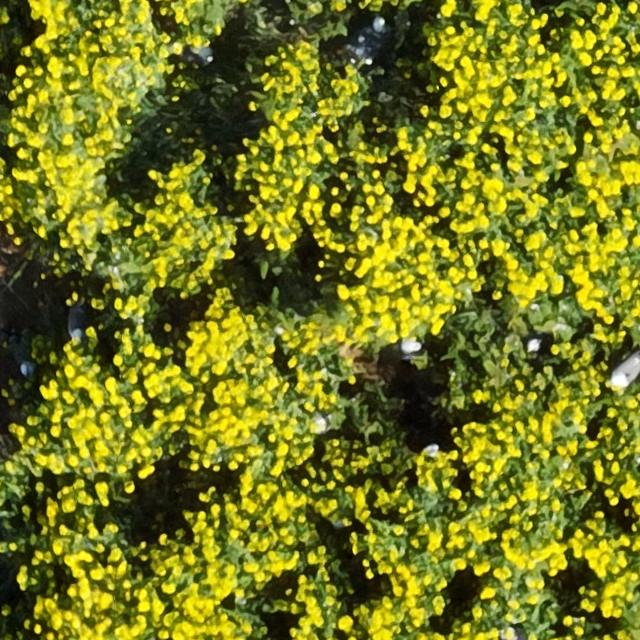umineko: (611, 352, 640, 384), (13, 346, 33, 376), (67, 302, 84, 337), (397, 338, 421, 356)
